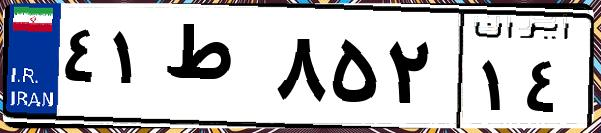1: (475, 38, 525, 113), (110, 28, 158, 98)
2: (385, 28, 445, 110)
4: (57, 26, 110, 100), (525, 38, 570, 115)
5: (330, 28, 385, 110)
8: (270, 28, 330, 110)
ط: (158, 20, 270, 120)
